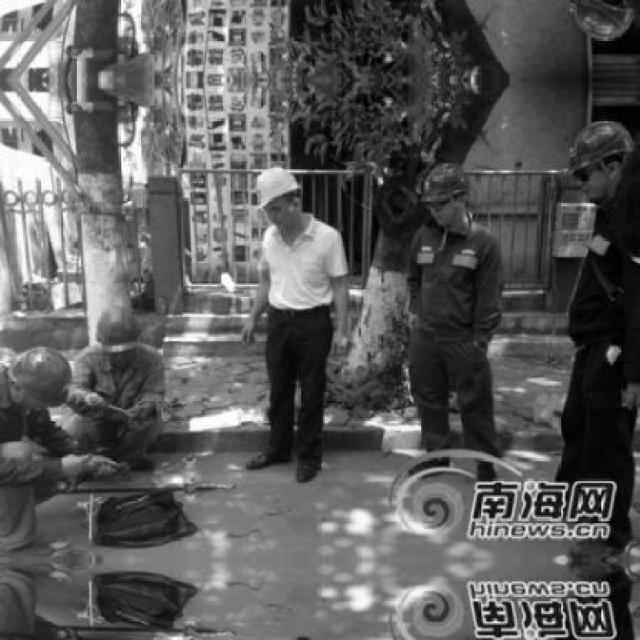helmet: (560, 116, 635, 204), (3, 343, 74, 411), (416, 157, 476, 231), (249, 162, 305, 229), (558, 0, 636, 46), (89, 300, 145, 362)
